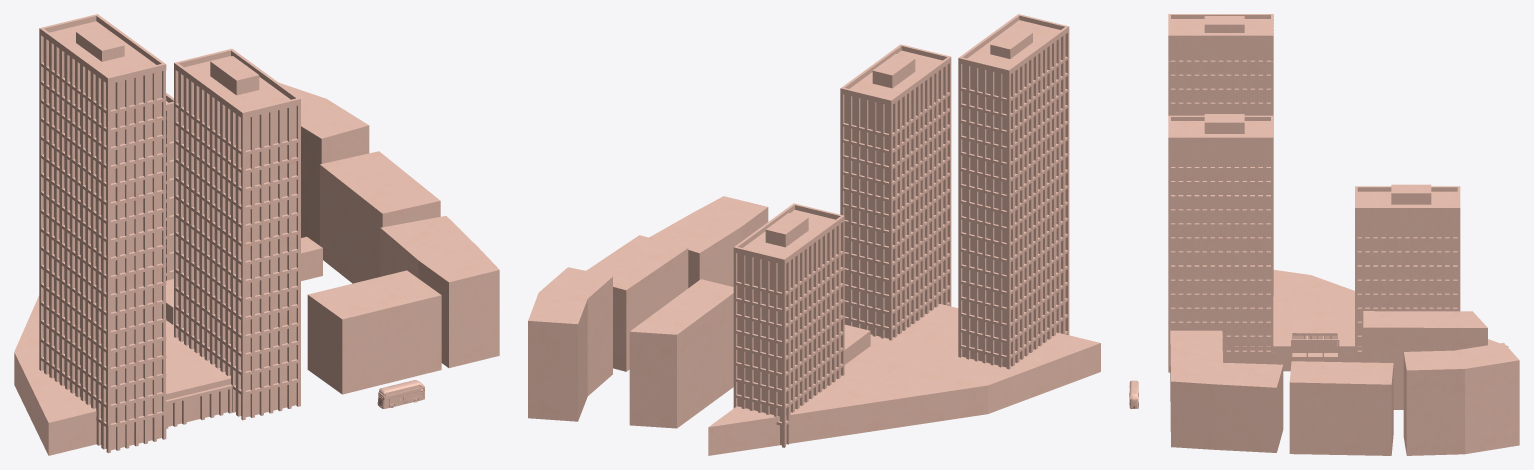
3 renders of one model, left to right at view 1: azimuth 30°, elevation 25°; view 2: azimuth 150°, elevation 25°; view 3: azimuth 270°, elevation 25°, orthographic. The views are drawn at different scales.
Visible parts, largest first — view 1: Buildings, Bus; view 2: Buildings; view 3: Buildings.
Part boxes in pixels (left/top/right/bottom): Buildings: left=14, top=14, right=499, bottom=455; Bus: left=377, top=380, right=424, bottom=408; Buildings: left=528, top=14, right=1100, bottom=455; Buildings: left=1168, top=14, right=1519, bottom=455.
Size of what is drawn, in the model's own units: 164 by 128 by 156.
Materials: 2 (2 with a texture image).
